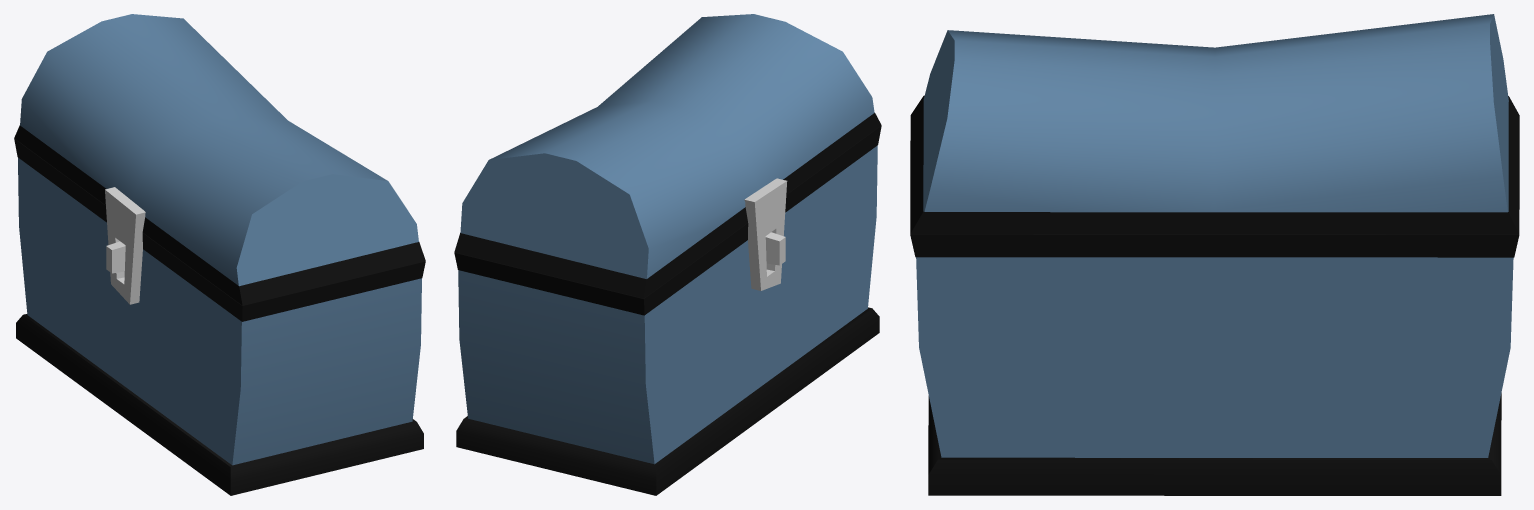
File: chest hallway room .fbx
3 renders of one model, left to right at view 1: azimuth 30°, elevation 25°; view 2: azimuth 150°, elevation 25°; view 3: azimuth 270°, elevation 25°, orthographic. The views are drawn at different scales.
Visible parts, largest first — view 1: chest hallway room, chest hallway room door; view 2: chest hallway room, chest hallway room door; view 3: chest hallway room, chest hallway room door.
Part boxes in pixels (x1=…): chest hallway room: x1=14, y1=138, x2=425, y2=495; chest hallway room door: x1=14, y1=14, x2=425, y2=305; chest hallway room: x1=454, y1=125, x2=881, y2=495; chest hallway room door: x1=454, y1=14, x2=881, y2=298; chest hallway room: x1=910, y1=209, x2=1519, y2=495; chest hallway room door: x1=910, y1=14, x2=1519, y2=234.
Size of the model in its own units: 0.6009 by 0.8307 by 1.15.
